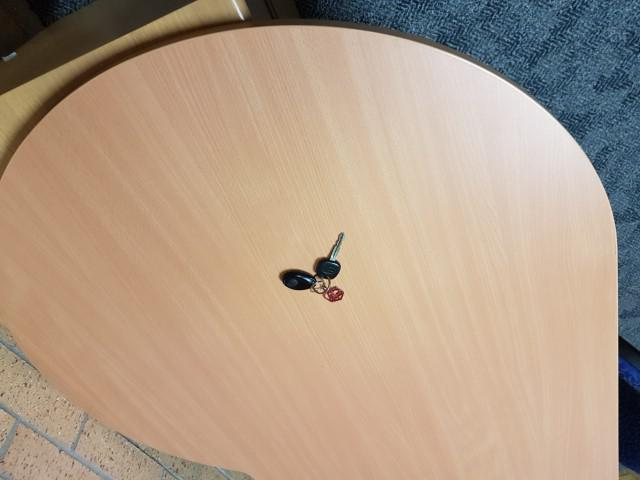key: (314, 229, 345, 282)
